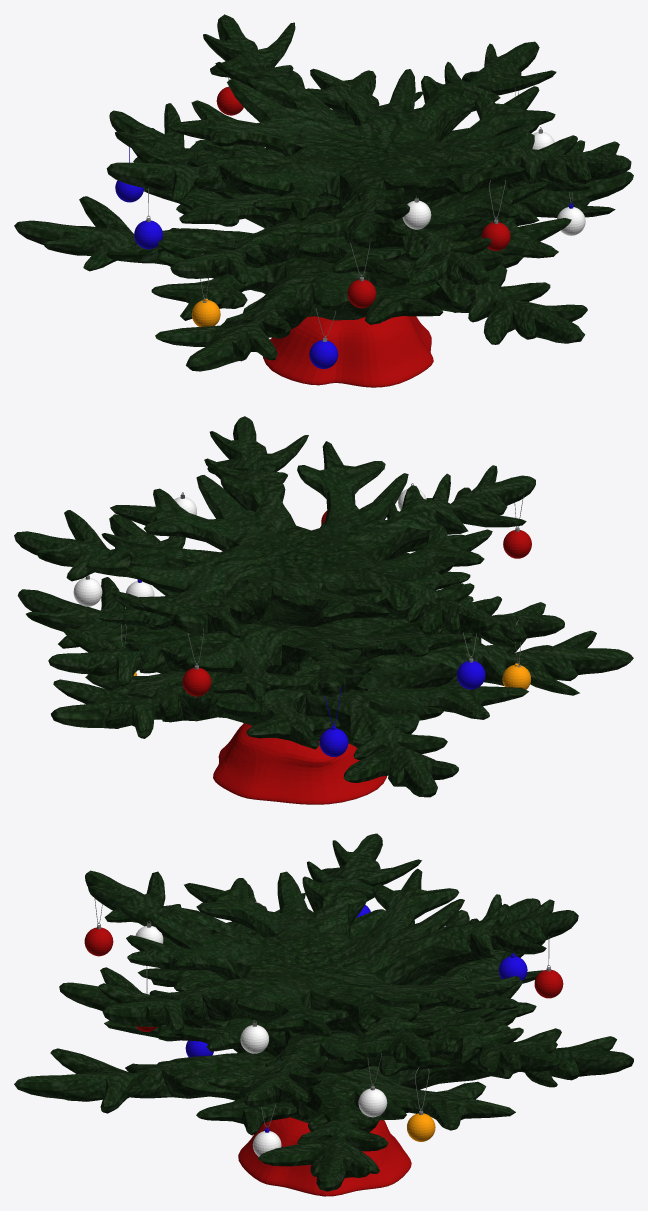
Rendered from Arbol_navidaUno.obj.
3 renders of one model, top to bottom at view 1: azimuth 30°, elevation 25°; view 2: azimuth 150°, elevation 25°; view 3: azimuth 270°, elevation 25°, orthographic.
Visible parts, largest first — view 1: Christmas_Tree03, Christmas_Tree02, Christmas_Tree19, cloth, ball48, ball66, ball74, ball70, ball28, ball60, ball62; view 2: Christmas_Tree03, Christmas_Tree02, Christmas_Tree19, cloth, ball78, ball76, ball56, ball66, ball74, ball70; view 3: Christmas_Tree03, Christmas_Tree02, Christmas_Tree19, cloth, ball52, ball56, ball78, ball66, ball58, ball76, ball62.
Part boxes in pixels (x1,y1,x2,y2): Christmas_Tree03: (106,14,631,246); Christmas_Tree02: (14,70,633,371); Christmas_Tree19: (109,70,616,286); cloth: (263,316,433,387); ball48: (309,340,338,368); ball66: (347,279,376,308); ball74: (134,220,162,249); ball70: (191,298,220,326); ball28: (402,200,431,229); ball60: (481,222,510,250); ball62: (557,207,585,235); Christmas_Tree03: (14,416,535,638); Christmas_Tree02: (17,577,633,797); Christmas_Tree19: (48,498,564,703); cloth: (213,723,386,804); ball78: (182,667,211,696); ball76: (319,728,348,756); ball56: (73,578,102,606); ball66: (503,530,531,558); ball74: (456,661,485,689); ball70: (502,663,531,689); Christmas_Tree03: (85,833,578,1067); Christmas_Tree02: (14,936,633,1191); Christmas_Tree19: (59,884,560,1107); cloth: (238,1117,411,1196); ball52: (240,1025,268,1053); ball56: (358,1088,387,1117); ball78: (534,969,563,998); ball66: (84,927,113,956); ball58: (407,1113,435,1141); ball76: (498,956,527,981); ball62: (252,1131,281,1156).
Size of the model in its own units: 25.88 by 11.52 by 26.3.
Materials: 7 (5 with a texture image).
